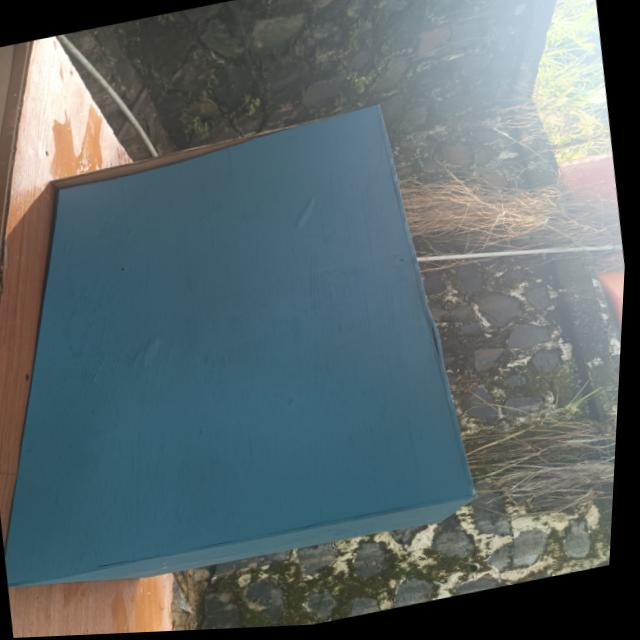blue_box: (0, 61, 538, 638)
